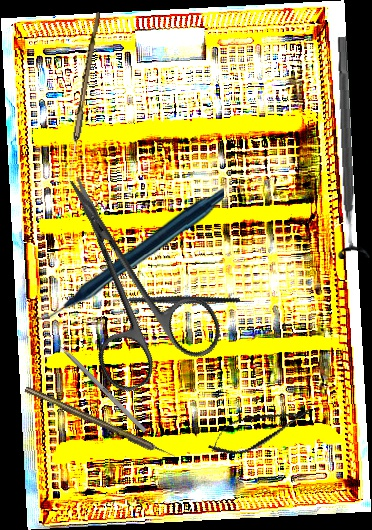Chopper: (105, 255, 241, 350)
Fixation Ring: (324, 35, 372, 260)
Handpiece: (35, 184, 224, 324)
Hook Surgical: (23, 384, 177, 462)
Iris Scissors: (20, 149, 231, 399)
Micro Scissor: (202, 394, 319, 464)
Pusher: (43, 329, 148, 434)
Surgical Spoon: (65, 11, 101, 185)
